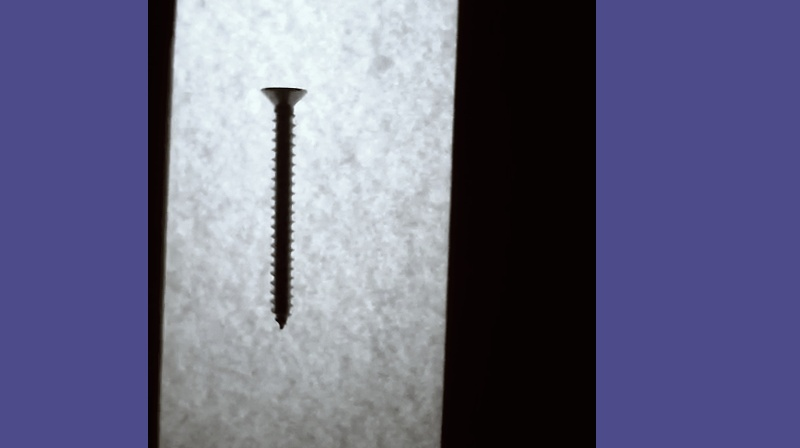S002: (255, 83, 309, 332)
